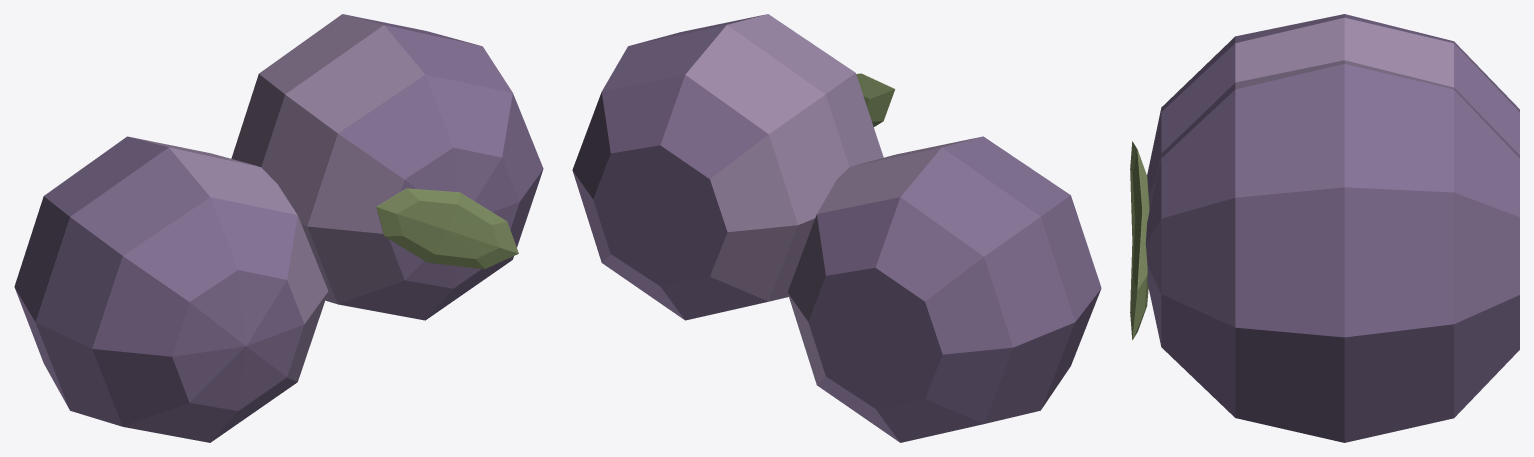
The model's file is Plums_Pair.glb.
3 renders of one model, left to right at view 1: azimuth 30°, elevation 25°; view 2: azimuth 150°, elevation 25°; view 3: azimuth 270°, elevation 25°, orthographic. The views are drawn at different scales.
Visible parts, largest first — view 1: Plums_Pair; view 2: Plums_Pair; view 3: Plums_Pair.
Boxes of the visible parts, x1=… form: Plums_Pair: x1=14, y1=14, x2=543, y2=442; Plums_Pair: x1=572, y1=14, x2=1101, y2=442; Plums_Pair: x1=1130, y1=14, x2=1519, y2=442.
Size of the model in its own units: 0.0793 by 0.0558 by 0.0421.
